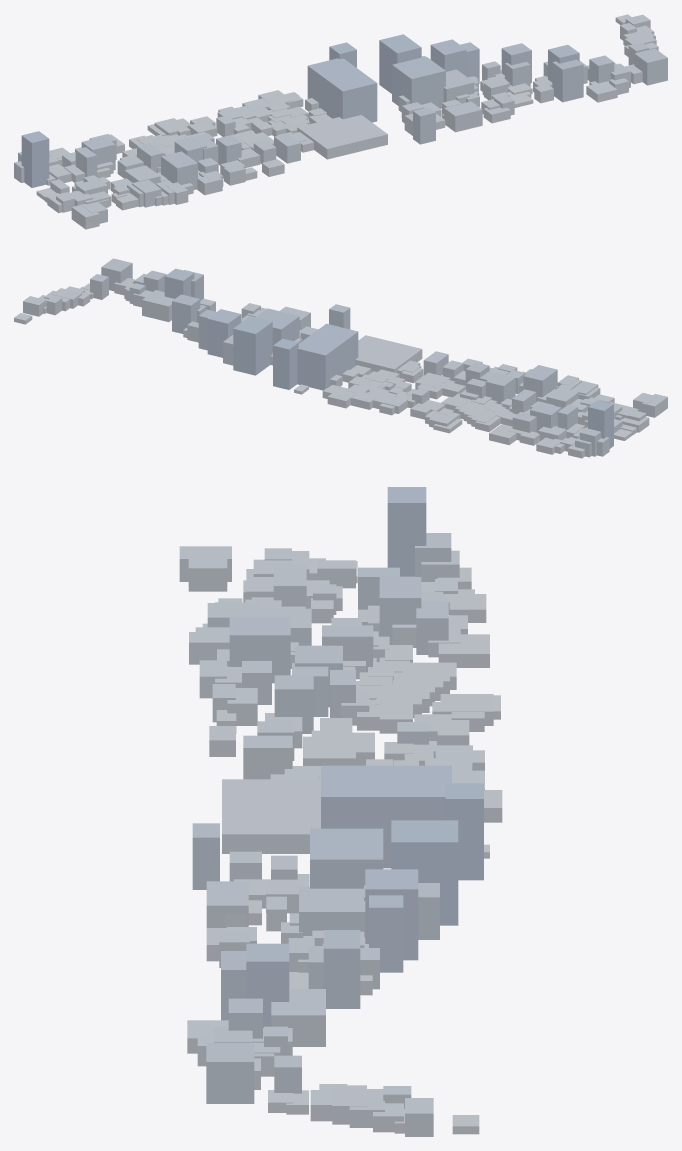
3 renders of one model, top to bottom at view 1: azimuth 30°, elevation 25°; view 2: azimuth 150°, elevation 25°; view 3: azimuth 270°, elevation 25°, orthographic. The views are drawn at different scales.
Bounding box in the file's own units: 592 × 40.6 × 141.
